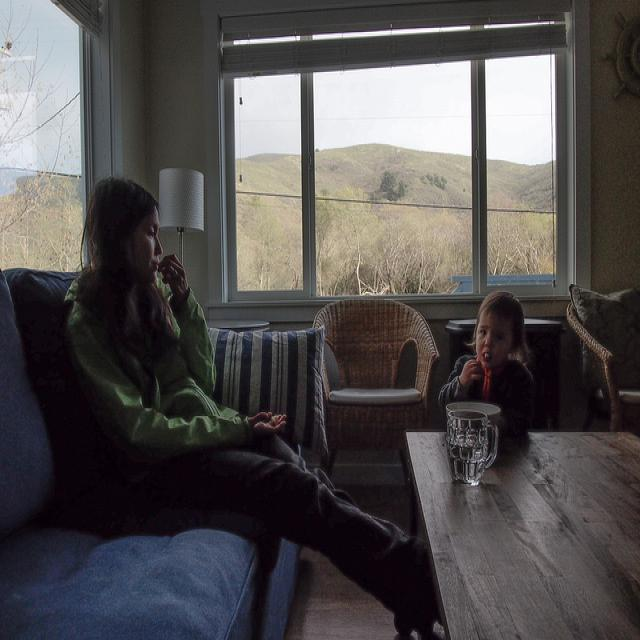chair: (308, 296, 442, 452), (566, 282, 640, 435)
dining table: (402, 423, 639, 631)
